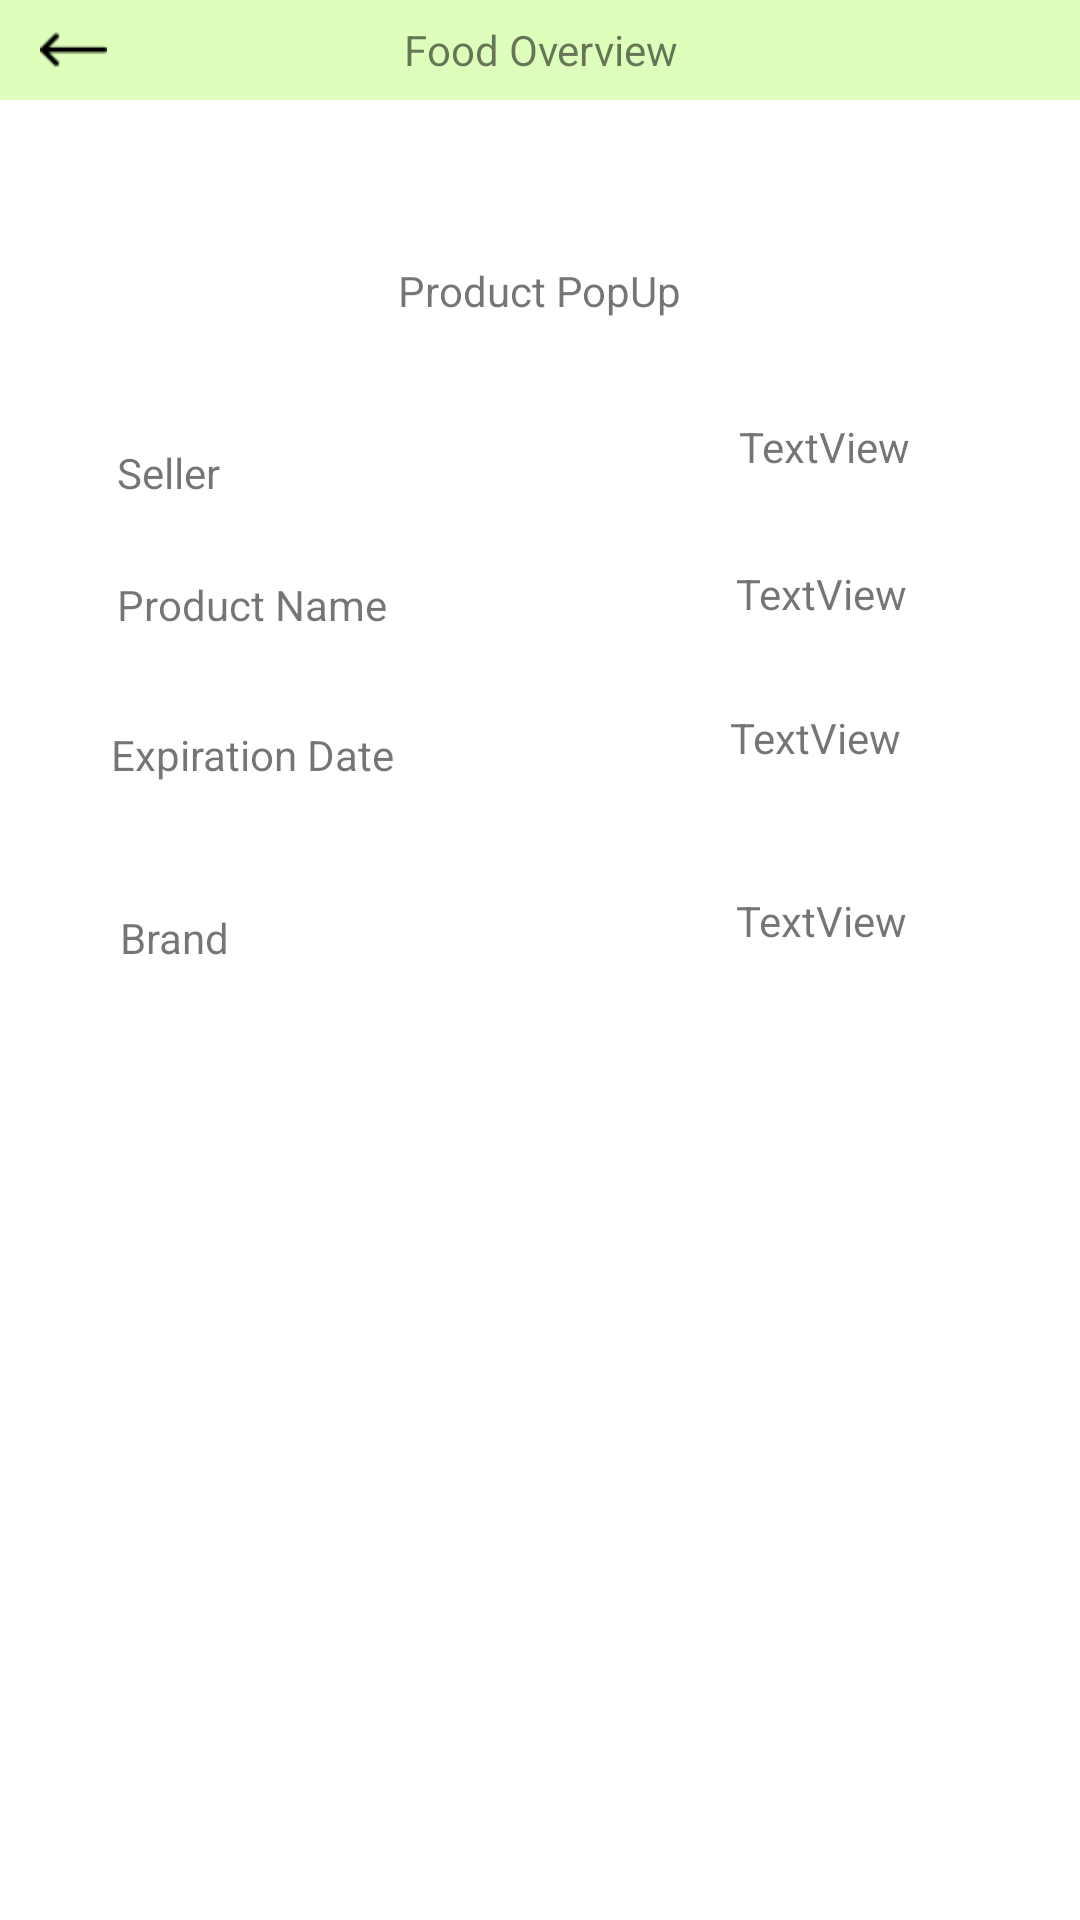

Icons on this 1080 x 1920 Android screen, each with its box as bbox(x1, y1, x2, y2):
back arrow: bbox(40, 32, 107, 67)
